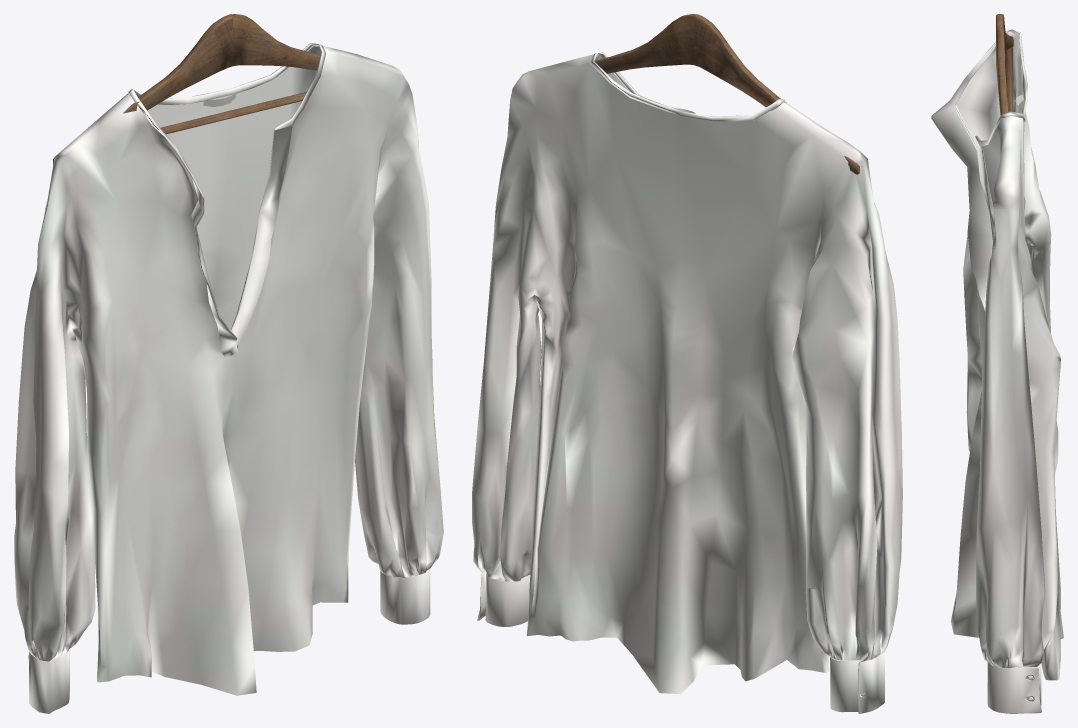
The model's file is hvtop_sweater012.glb.
3 renders of one model, left to right at view 1: azimuth 30°, elevation 25°; view 2: azimuth 150°, elevation 25°; view 3: azimuth 270°, elevation 25°, orthographic. The views are drawn at different scales.
Parts seen in each view (by area): view 1: sweater012_StaticMeshComponent0; view 2: sweater012_StaticMeshComponent0; view 3: sweater012_StaticMeshComponent0.
Part boxes in pixels (x1=…): sweater012_StaticMeshComponent0: x1=14, y1=14, x2=443, y2=713; sweater012_StaticMeshComponent0: x1=472, y1=14, x2=902, y2=713; sweater012_StaticMeshComponent0: x1=931, y1=14, x2=1063, y2=713.
Bounding box in the file's own units: 0.5232 × 0.8134 × 0.1571.
3 materials, 2 textured.
